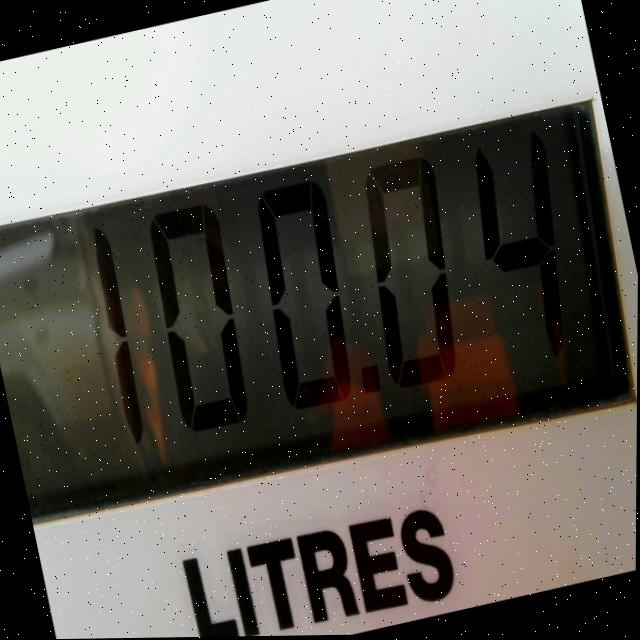.: (360, 360, 384, 398)
0: (352, 153, 473, 393), (246, 180, 362, 414), (142, 204, 255, 430)
1: (87, 222, 155, 448)
4: (464, 140, 580, 370)
